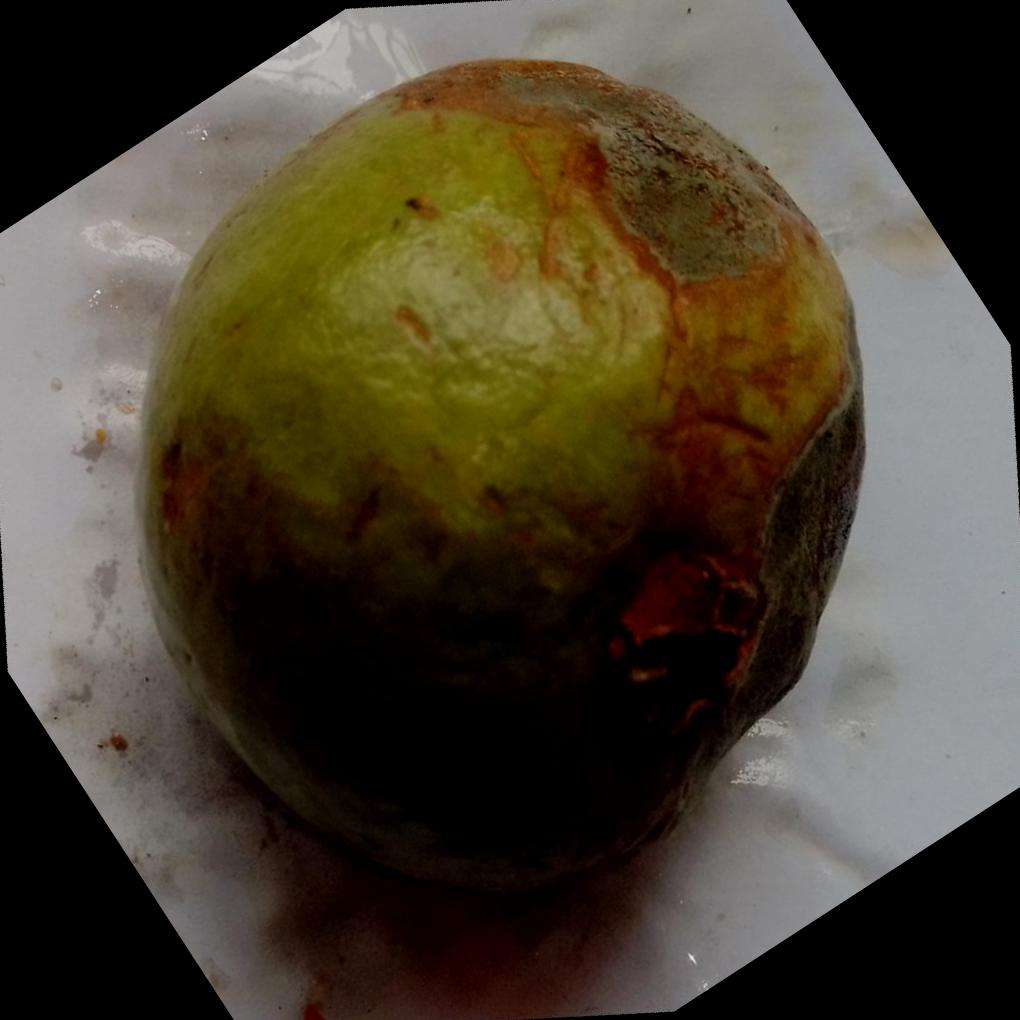FreshOrange: (135, 56, 865, 900)
